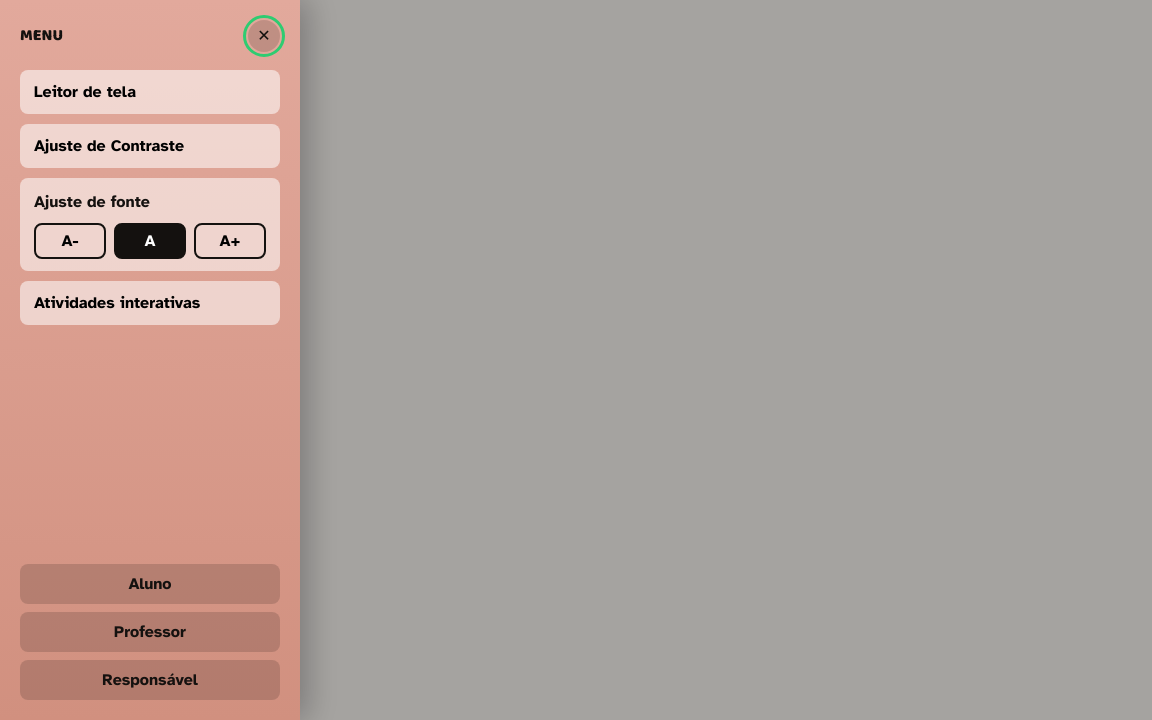
Test case: AccessibilityMenu › mostra "(ativado)" após ligar o leitor de tela
Click the button "Leitor de tela".
click(85, 92)  # box [20,70,280,114]
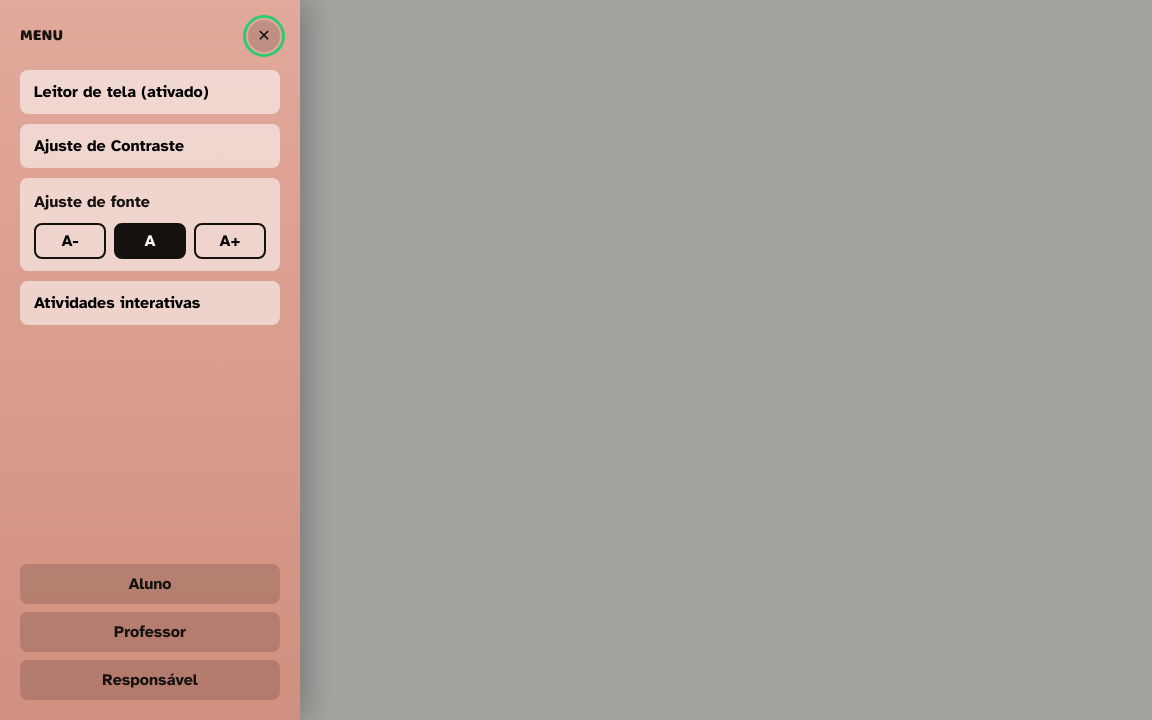
expect the button "Leitor de tela (ativado)" is shown: met, box [20,70,280,114]
